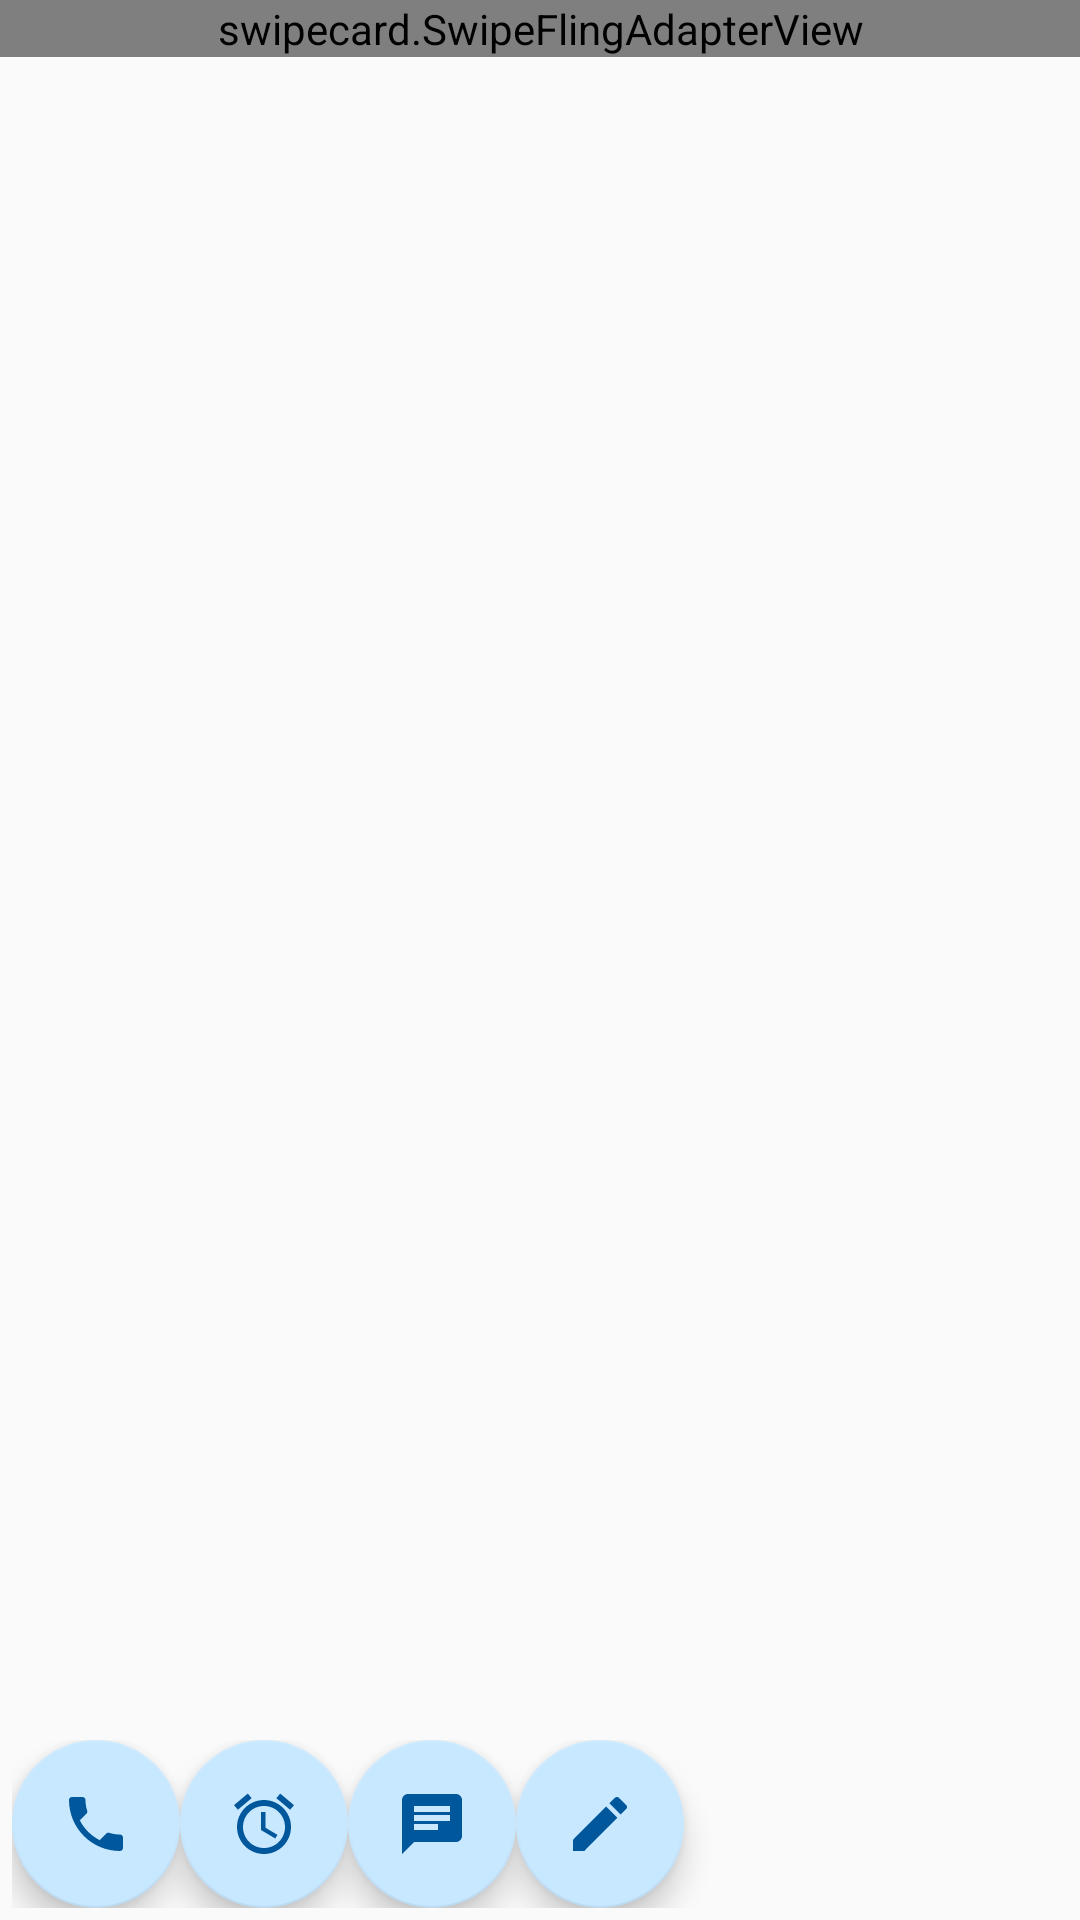

Point at icon controls on the screen. Image size 1080 x 1920, points as (x,y).
alarm: (264,1824)
call: (96,1824)
chat: (432,1824)
edit: (600,1824)
